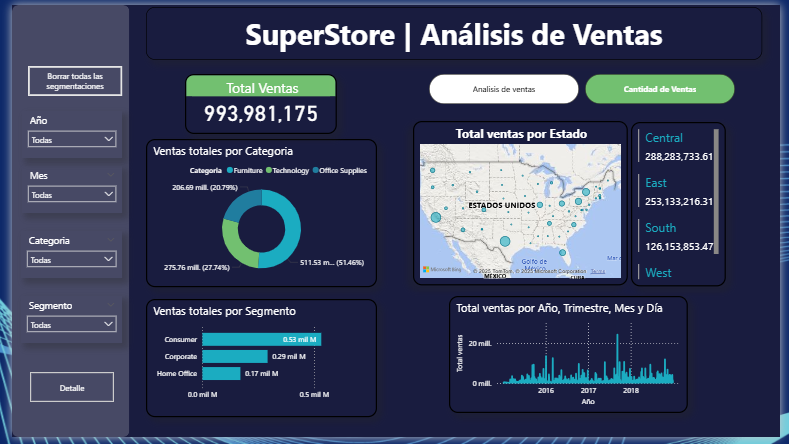

This screenshot's page, from the dashboard's own definition file:
{"tool":"powerbi","page":{"name":"Analisis de ventas","canvas":[1280,720],"ordinal":0},"visuals":[{"type":"shape","box":[0,0,195.6,720.1],"z":0},{"type":"donutChart","title":"Ventas totales por Categoria","fields":{"Category":["Dim_Product.Category"],"Y":["SuperStore.Total ventas"]},"box":[223.3,223.3,385,246.7],"z":1000},{"type":"card","title":"Total Ventas","fields":{"Values":["SuperStore.Total ventas"]},"box":[288.3,115,253.3,100],"z":2000},{"type":"clusteredBarChart","title":"Ventas totales por Segmento","fields":{"Y":["SuperStore.Total ventas"],"Category":["SuperStore.Segment"]},"box":[223.3,490,385,196.7],"z":3000},{"type":"map","title":"Total ventas por Estado","fields":{"Size":["SuperStore.Total ventas"],"Category":["Dim_Location.State"]},"box":[668.3,193.3,357.6,274.4],"z":4000,"group":"g1"},{"type":"lineChart","fields":{"Y":["SuperStore.Total ventas"],"Category":["SuperStore.Order_Date.Variación.Jerarquía de fechas.Año","SuperStore.Order_Date.Variación.Jerarquía de fechas.Trimestre","SuperStore.Order_Date.Variación.Jerarquía de fechas.Mes","SuperStore.Order_Date.Variación.Jerarquía de fechas.Día"]},"box":[728.3,485,398.3,195],"z":4000},{"type":"textbox","box":[223.3,3.3,1026.7,88.3],"z":5000},{"type":"multiRowCard","fields":{"Values":["Dim_Location.Region","SuperStore.Total ventas"]},"box":[1032.2,194.7,158.2,274.4],"z":6000,"group":"g1"},{"type":"slicer","fields":{"Values":["SuperStore.Order_Date.Variación.Jerarquía de fechas.Año"]},"box":[17,176.1,167.3,78],"z":6000},{"type":"slicer","fields":{"Values":["SuperStore.Order_Date.Variación.Jerarquía de fechas.Mes"]},"box":[17,268.2,167.3,78],"z":7000},{"type":"slicer","fields":{"Values":["Dim_Product.Category"]},"box":[15.6,377.4,168.7,78],"z":8000},{"type":"slicer","title":"Segmento","fields":{"Values":["SuperStore.Segment"]},"box":[15.6,485.1,168.7,78],"z":9000},{"type":"pageNavigator","box":[30,611.4,140,50],"z":10000},{"type":"group","id":"g1","title":"Grupo 1","box":[668.3,193.3,520,275],"z":11000},{"type":"bookmarkNavigator","box":[695.6,115.6,511.1,50],"z":12000},{"type":"actionButton","box":[27.1,101.4,157.1,50],"z":13000}]}

Visuals, with their boxes in screenshot pixels (x1, y1, x2, y2), scaled from the page's 1280x720 canvas onto the 789x444 screenshot:
shape: detection(0, 0, 121, 443)
"Ventas totales por Categoria" donutChart: detection(138, 138, 375, 290)
"Total Ventas" card: detection(178, 71, 334, 133)
"Ventas totales por Segmento" clusteredBarChart: detection(138, 302, 375, 423)
"Total ventas por Estado" map: detection(412, 119, 632, 288)
lineChart - SuperStore.Total ventas x SuperStore.Order_Date.Variación.Jerarquía de fechas.Año: detection(449, 299, 694, 419)
textbox: detection(138, 2, 771, 56)
multiRowCard - Dim_Location.Region x SuperStore.Total ventas: detection(636, 120, 734, 289)
slicer - SuperStore.Order_Date.Variación.Jerarquía de fechas.Año: detection(10, 109, 114, 157)
slicer - SuperStore.Order_Date.Variación.Jerarquía de fechas.Mes: detection(10, 165, 114, 213)
slicer - Dim_Product.Category: detection(10, 233, 114, 281)
"Segmento" slicer: detection(10, 299, 114, 347)
pageNavigator: detection(18, 377, 105, 408)
"Grupo 1" group: detection(412, 119, 732, 289)
bookmarkNavigator: detection(429, 71, 744, 102)
actionButton: detection(17, 63, 114, 93)
